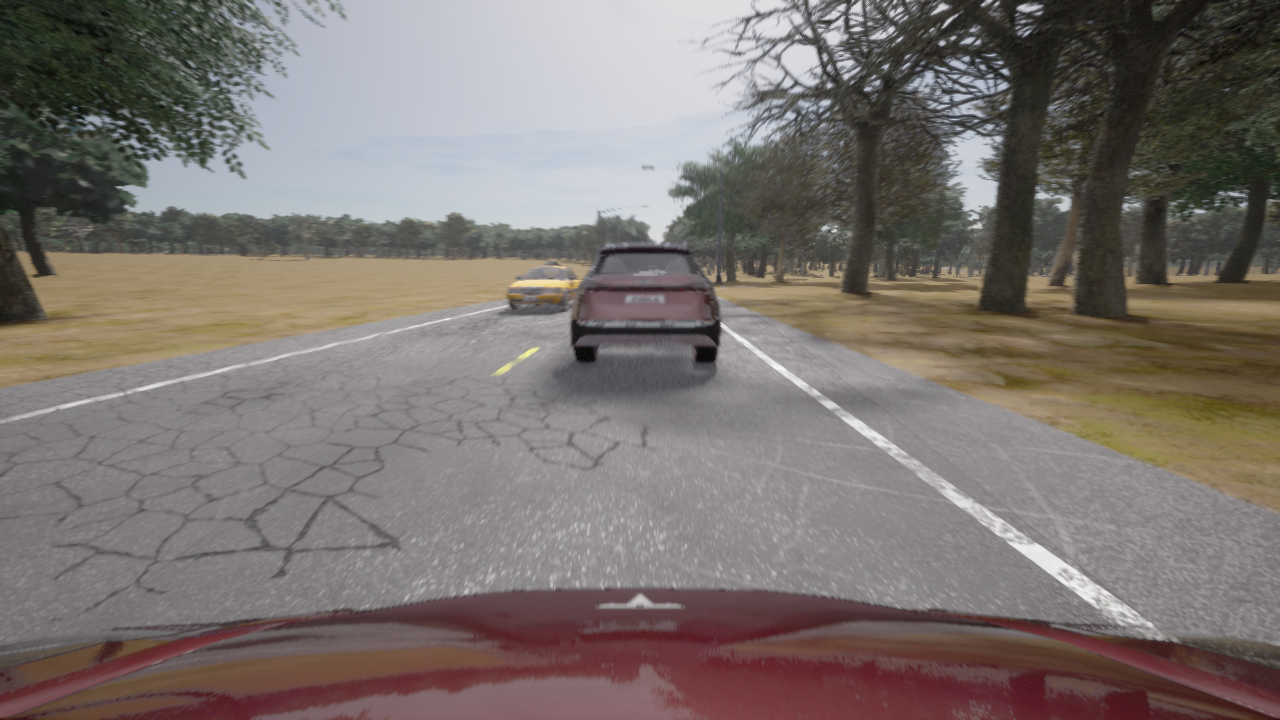cyclist: (0, 588, 1279, 719), (571, 239, 720, 363), (507, 262, 581, 310)
